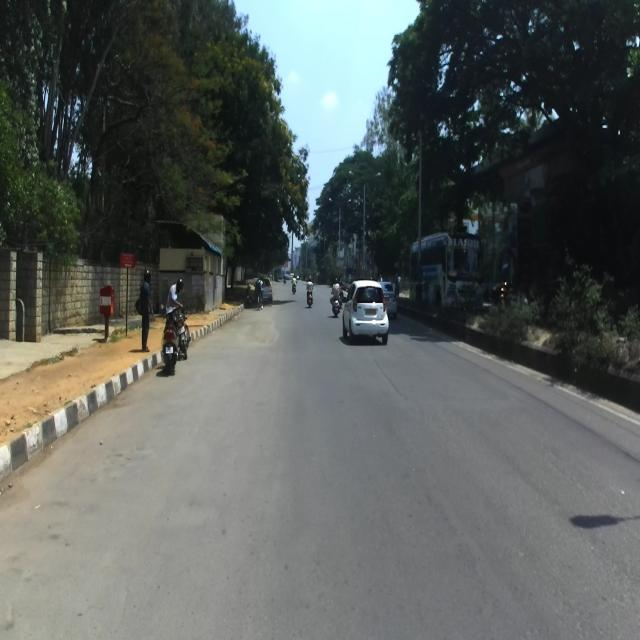Car_Maruti-Suzuki: (342, 280, 391, 344), (376, 280, 398, 320)
Car_Toyota: (256, 278, 272, 304)
bus: (408, 227, 484, 308)
motorcycle_Hero: (176, 305, 192, 358)
scooter: (160, 294, 180, 374)
